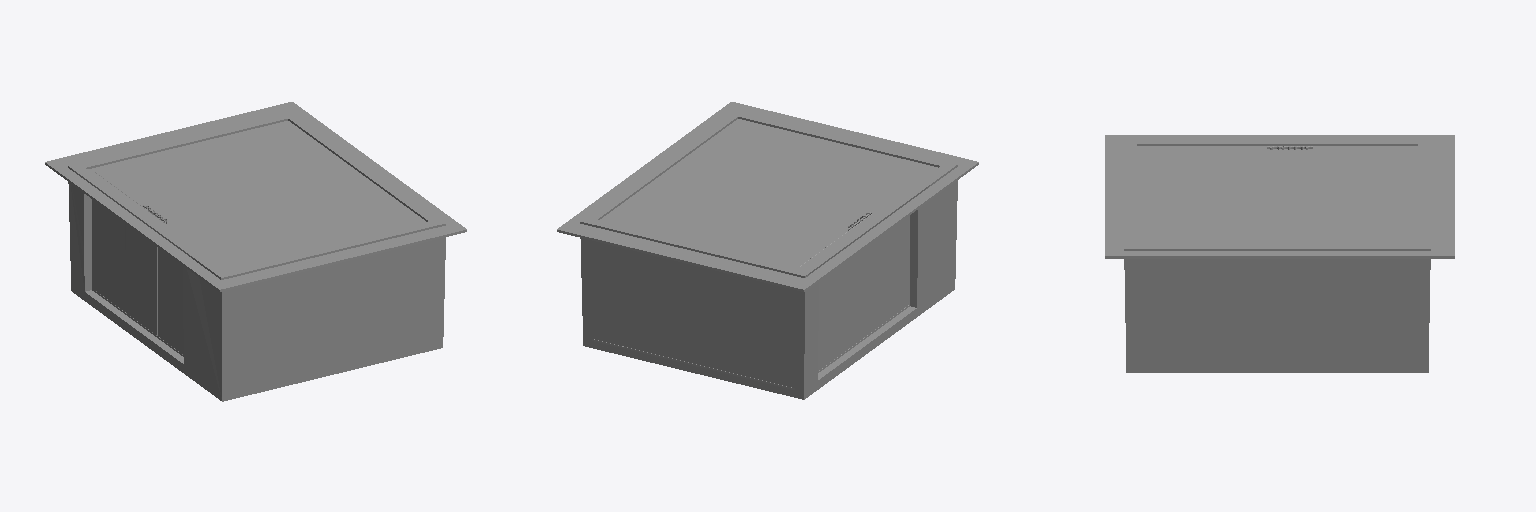
Rendered from bedroom11_layout.obj.
The picture shows the model from 3 angles: view 1: azimuth 30°, elevation 25°; view 2: azimuth 150°, elevation 25°; view 3: azimuth 270°, elevation 25°; orthographic projection.
Visible parts, largest first — view 1: wall.016, ceiling.007, window.009; view 2: wall.016, ceiling.007, window.009; view 3: wall.016, ceiling.007.
Part boxes in pixels (x1,y1,x2,y2): wall.016: (68,111,445,401); ceiling.007: (45,102,466,291); window.009: (93,200,183,354); wall.016: (580,109,957,399); ceiling.007: (557,102,978,291); window.009: (818,216,908,370); wall.016: (1124,139,1430,372); ceiling.007: (1105,135,1454,258).
Size of the model in its own units: 6.5 by 3.14 by 7.94.